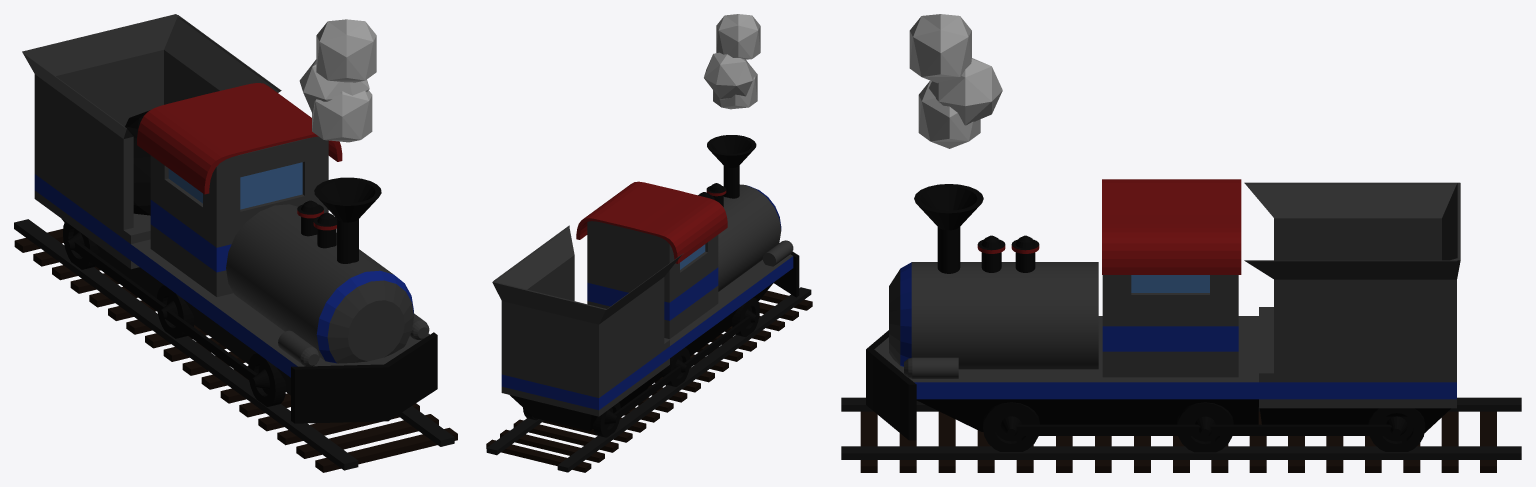
File: Train.obj
3 views of the same model, side by side, from view 1: azimuth 30°, elevation 25°; view 2: azimuth 150°, elevation 25°; view 3: azimuth 270°, elevation 25° (orthographic). The views are drawn at different scales.
Parts seen in each view (by area): view 1: GeoSphere002; view 2: GeoSphere002; view 3: GeoSphere002.
Part boxes in pixels (<box>): GeoSphere002: <box>14,14,457,472</box>; GeoSphere002: <box>486,14,812,472</box>; GeoSphere002: <box>841,14,1521,472</box>.
Size of the model in its own units: 29.4 by 74.07 by 108.
